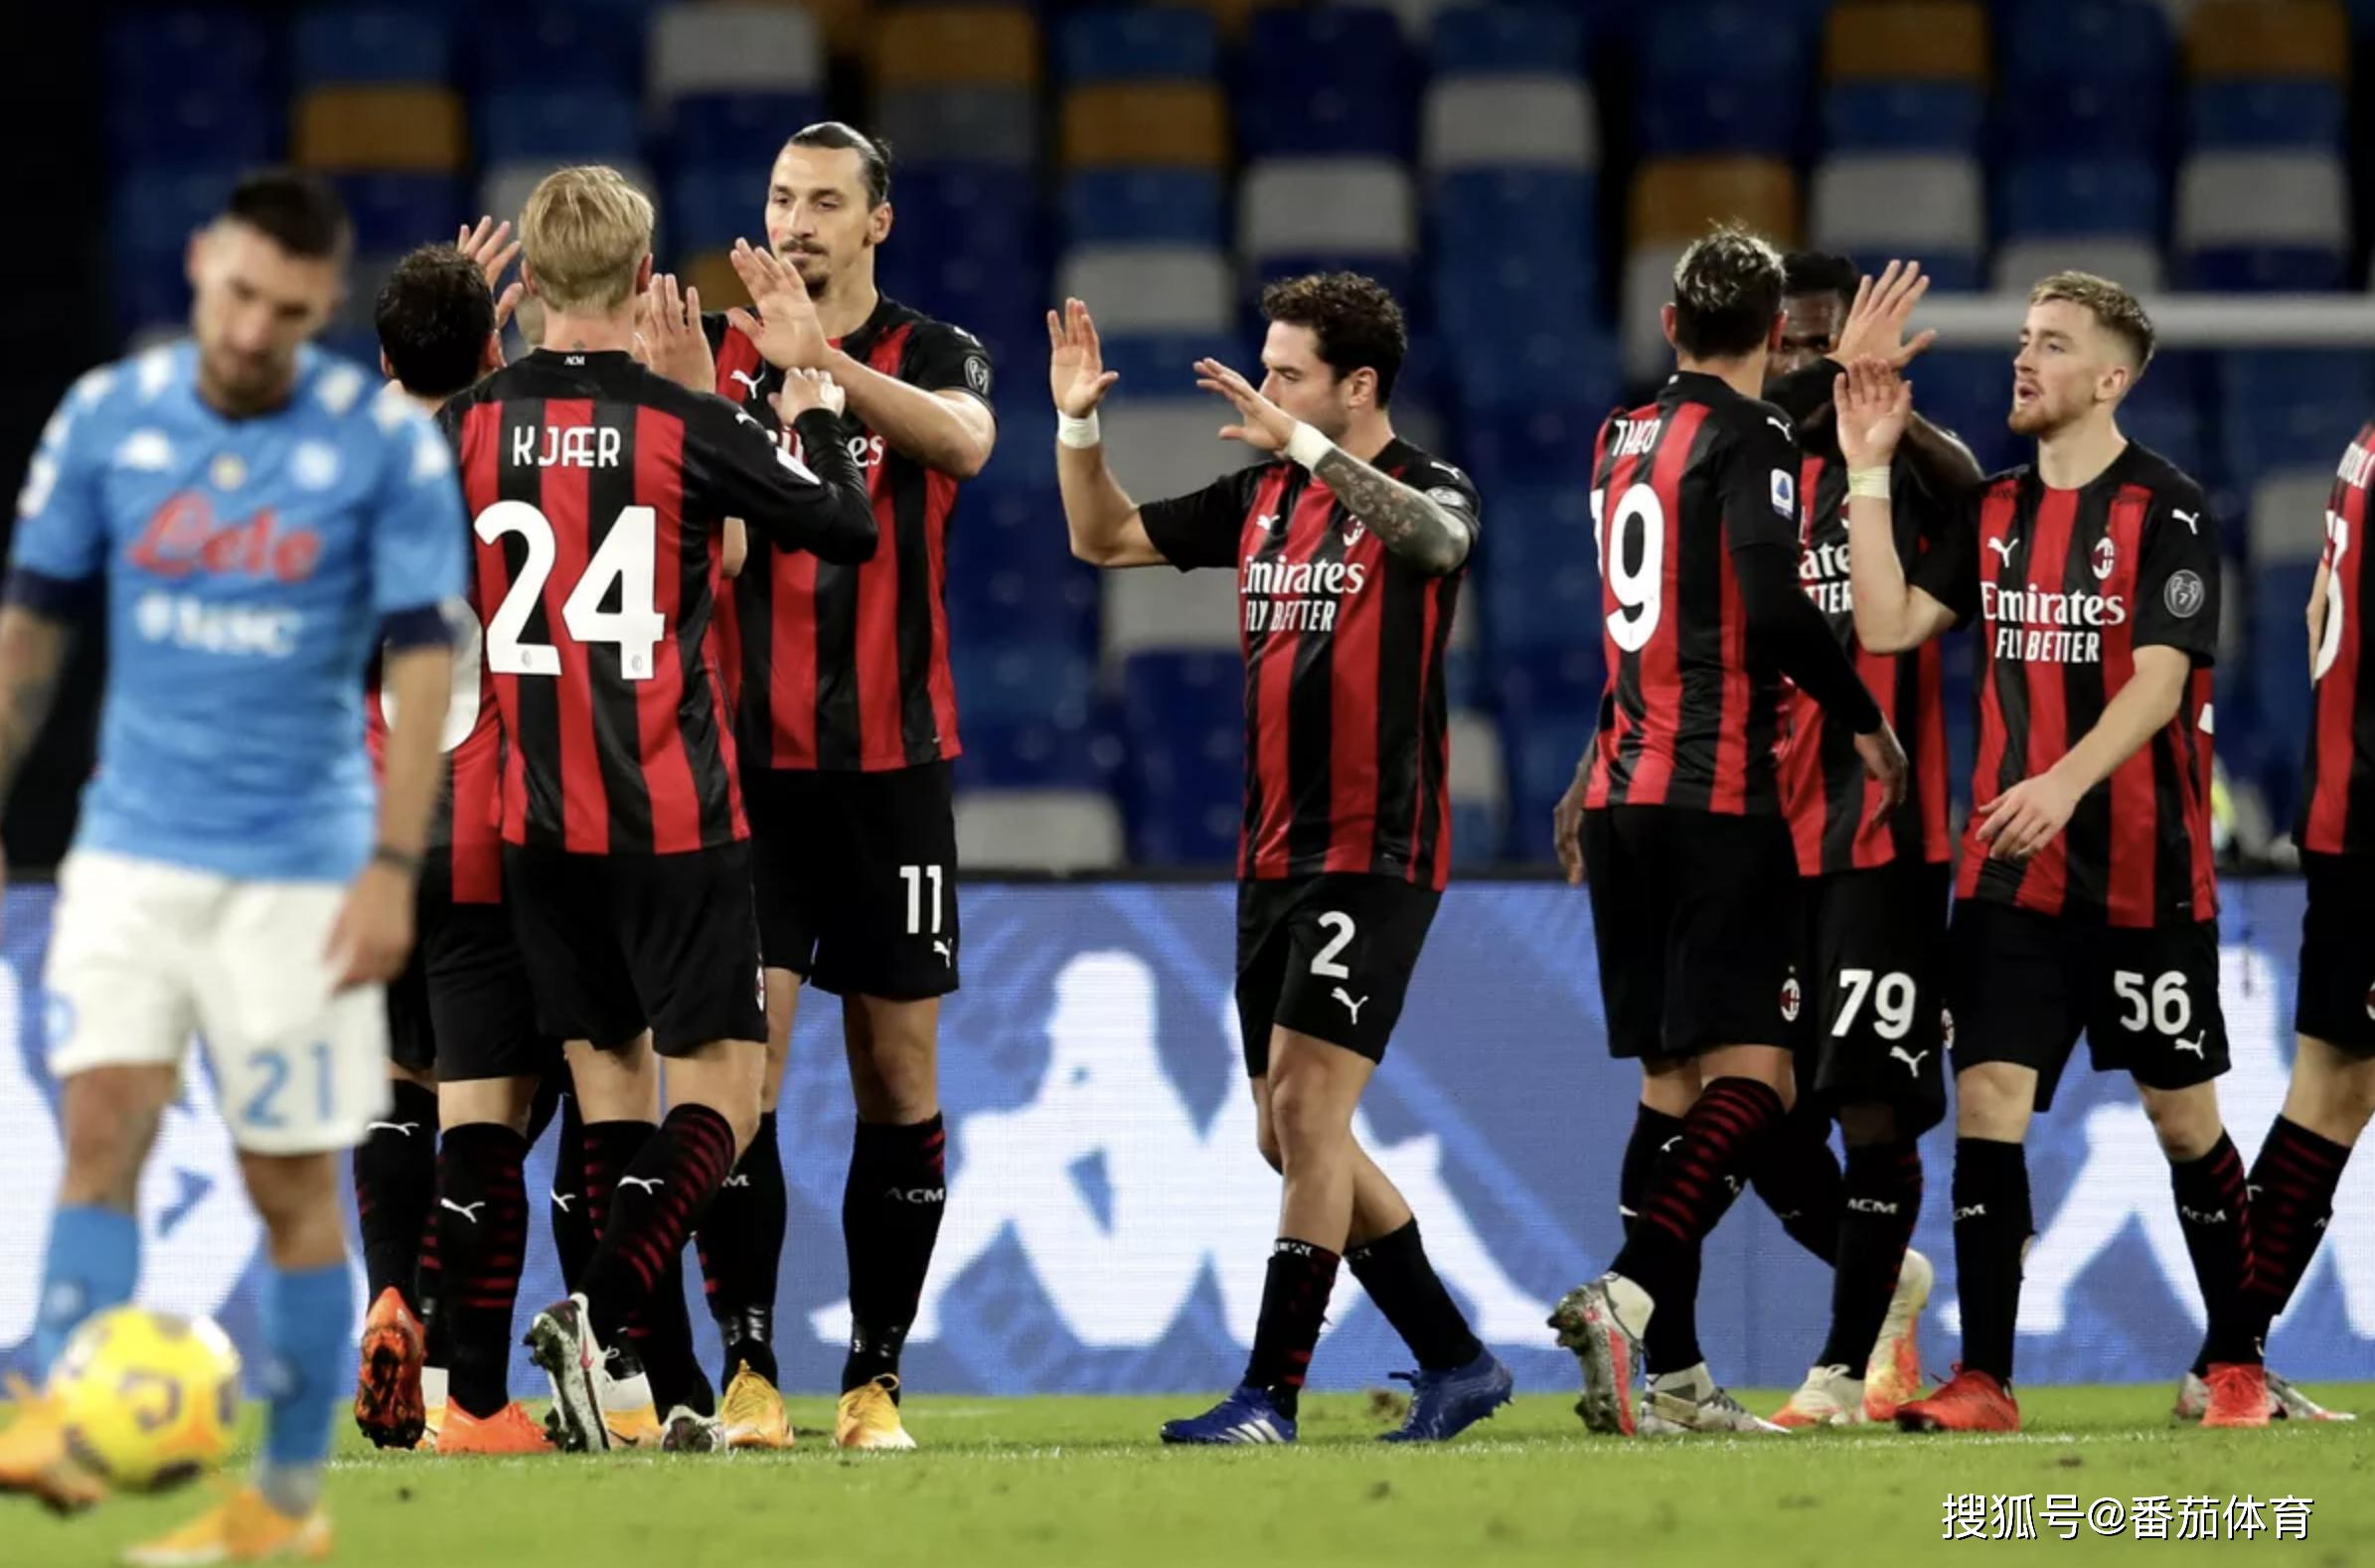ball: (40, 1297, 254, 1505)
